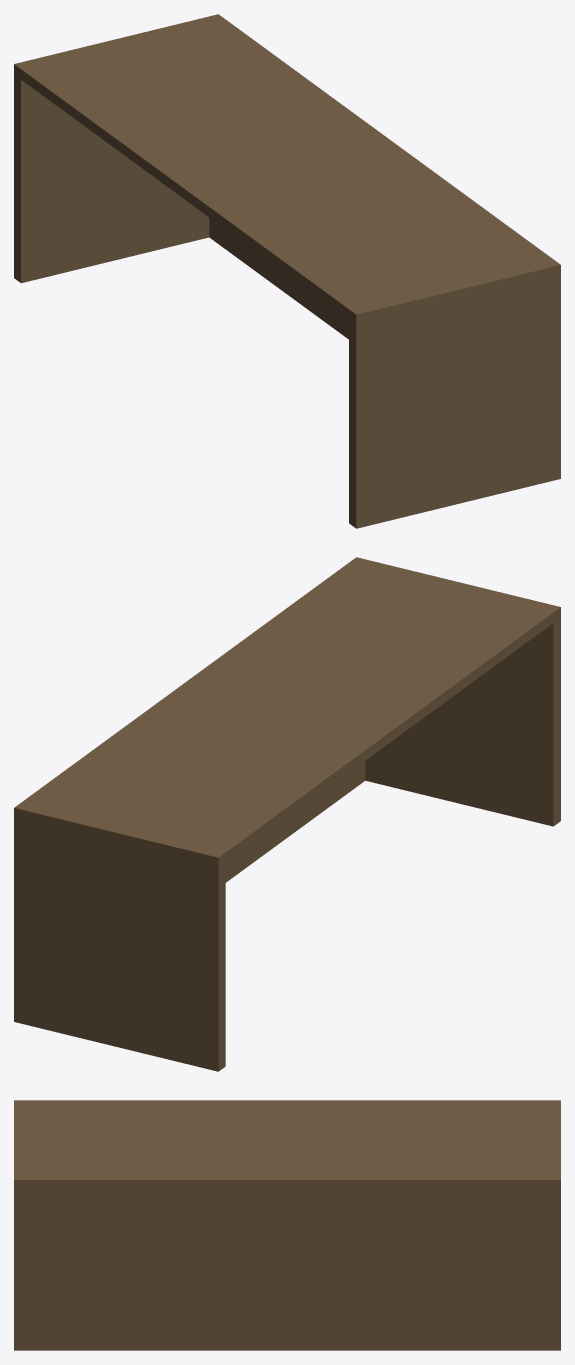
The model's file is Teacher Table.fbx.
3 renders of one model, top to bottom at view 1: azimuth 30°, elevation 25°; view 2: azimuth 150°, elevation 25°; view 3: azimuth 270°, elevation 25°, orthographic. The views are drawn at different scales.
Parts seen in each view (by area): view 1: Model; view 2: Model; view 3: Model.
Part boxes in pixels (x1,y1,x2,y2): Model: (14, 14, 560, 528); Model: (14, 557, 560, 1071); Model: (14, 1100, 560, 1350).
Bounding box in the file's own units: 2.9 × 1 × 1.
